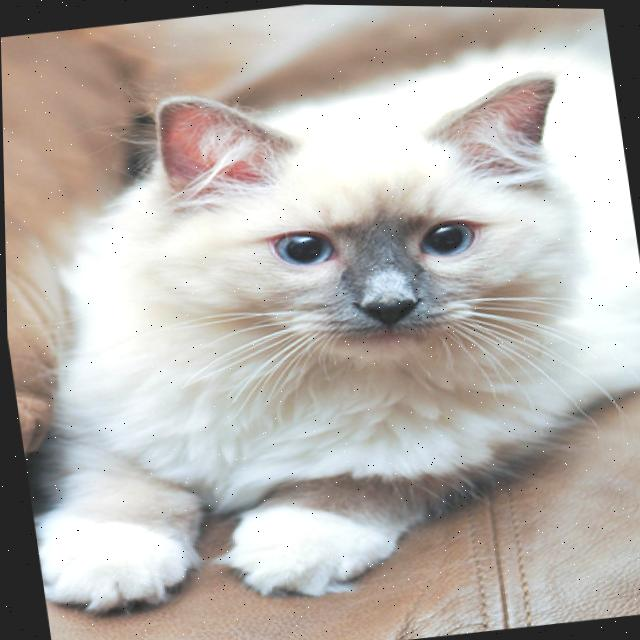Ragdoll: (0, 17, 640, 628)
